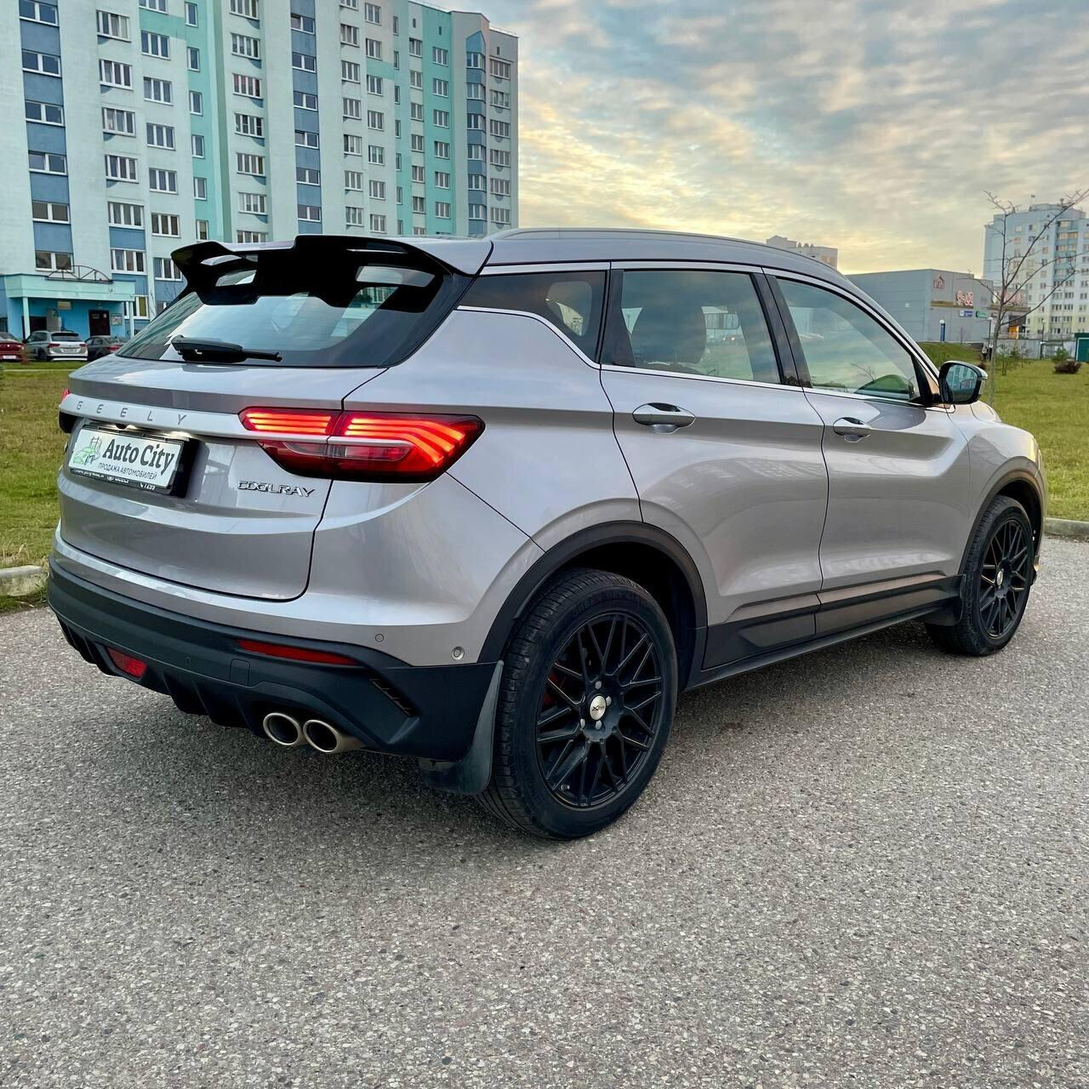Coolray_2019-2023: (43, 216, 1056, 838)
